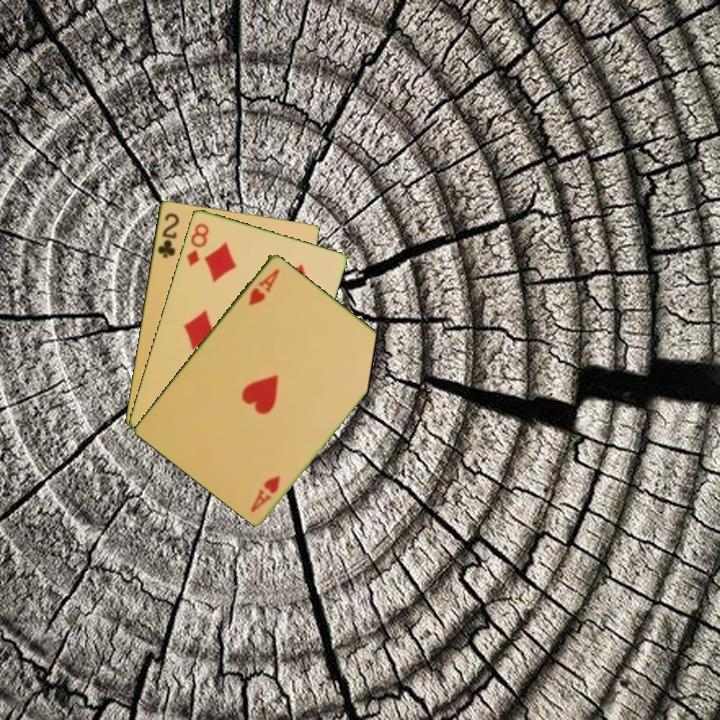2c: (154, 209, 182, 260)
8d: (183, 219, 212, 269)
Ah: (245, 265, 282, 308), (247, 471, 283, 515)
